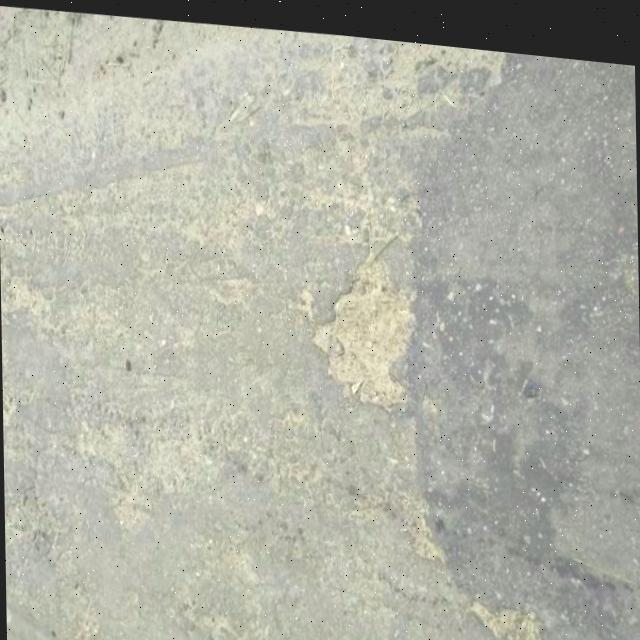Pothole: (302, 260, 414, 408), (511, 603, 556, 640)
